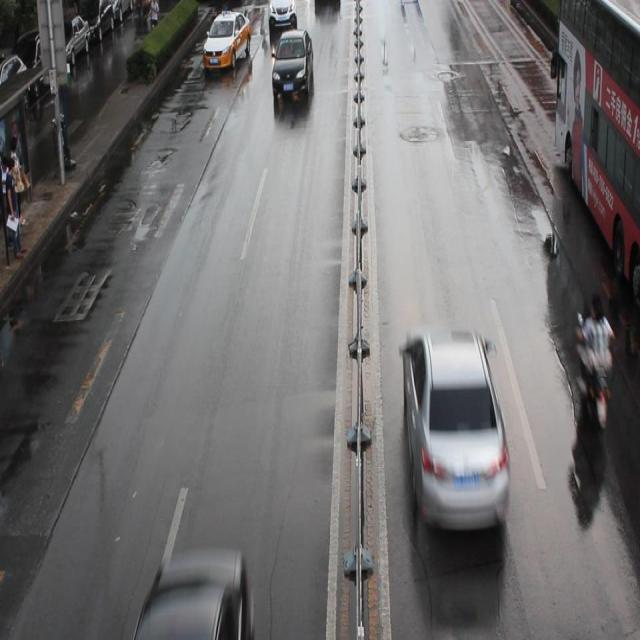car: (397, 323, 509, 530), (133, 543, 254, 640), (202, 8, 252, 69), (271, 28, 314, 98), (268, 1, 298, 32), (314, 1, 339, 8)
van: (553, 2, 640, 310)
